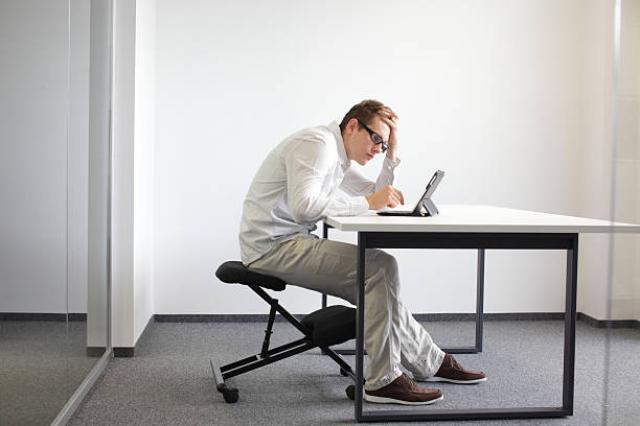bad-pose: (0, 0, 640, 426)
